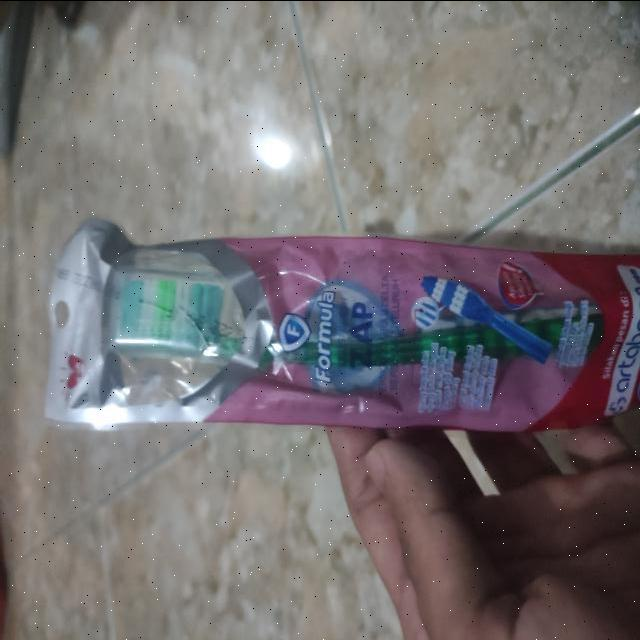toothbrush: (107, 252, 620, 366)
